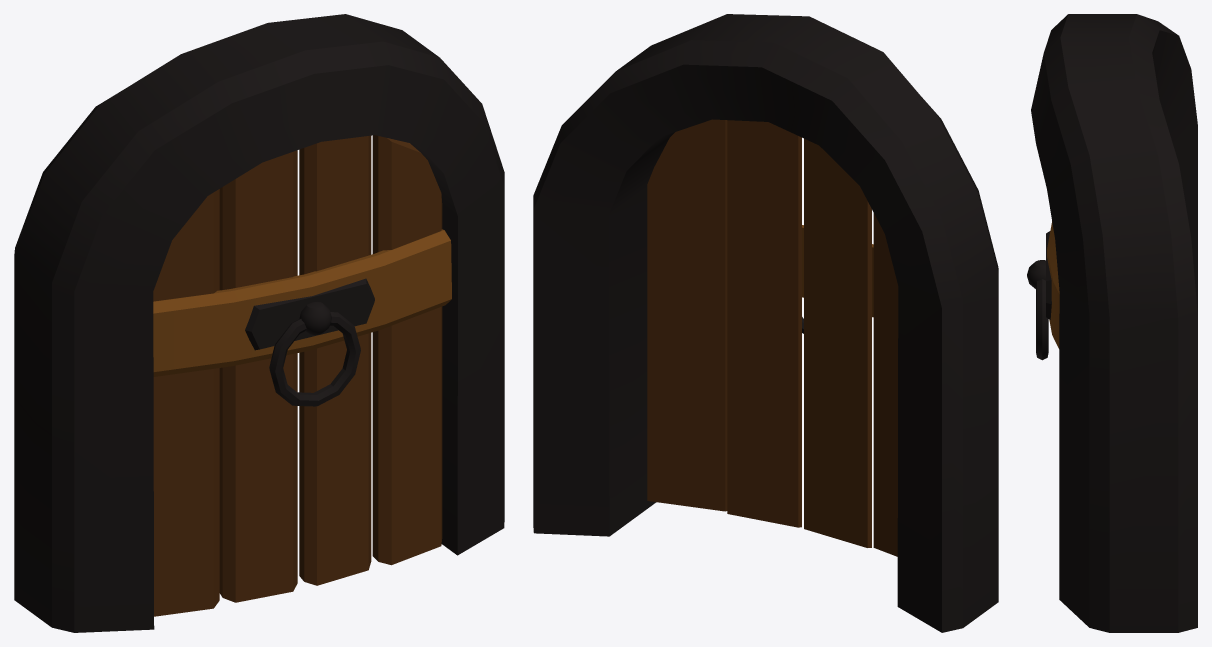
The model's file is Door.obj.
3 renders of one model, left to right at view 1: azimuth 30°, elevation 25°; view 2: azimuth 150°, elevation 25°; view 3: azimuth 270°, elevation 25°, orthographic. The views are drawn at different scales.
Visible parts, largest first — view 1: Door_Frame_Cube.014, Door_Cylinder.014; view 2: Door_Frame_Cube.014, Door_Cylinder.014; view 3: Door_Frame_Cube.014, Door_Cylinder.014.
Part boxes in pixels (bbox=[...]): Door_Frame_Cube.014: bbox=[14, 14, 504, 632]; Door_Cylinder.014: bbox=[153, 135, 451, 616]; Door_Frame_Cube.014: bbox=[533, 14, 998, 632]; Door_Cylinder.014: bbox=[647, 119, 898, 556]; Door_Frame_Cube.014: bbox=[1031, 14, 1197, 632]; Door_Cylinder.014: bbox=[1027, 221, 1059, 360].
Bounding box in the file's own units: 3.71 × 4.24 × 1.33.
